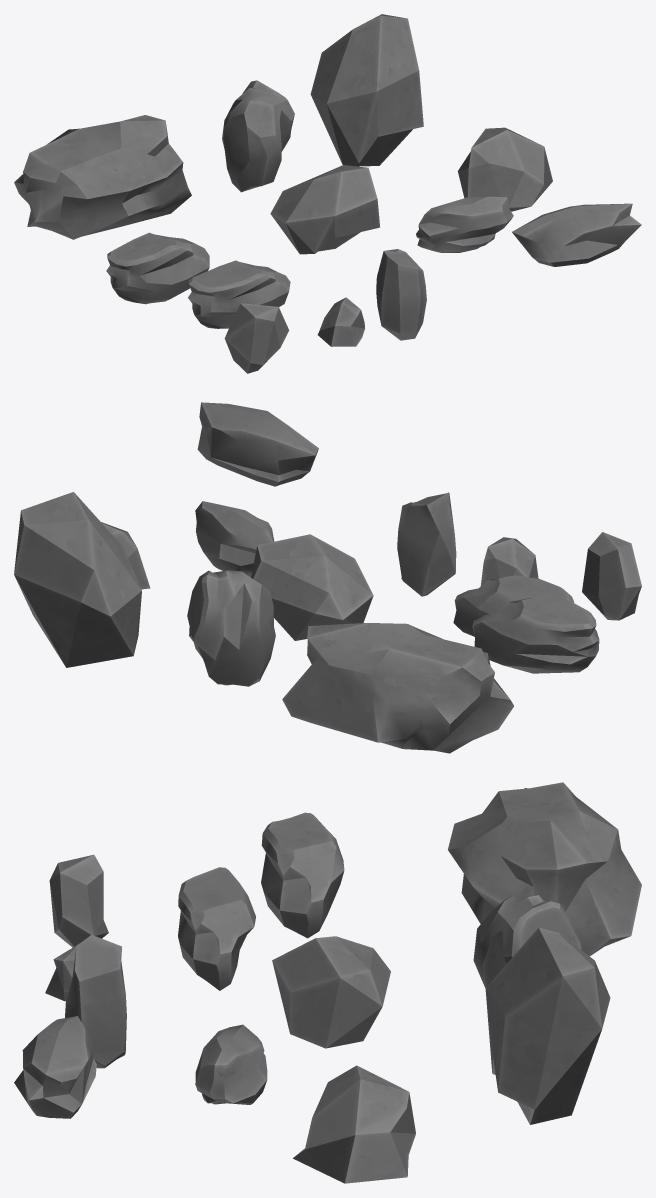
File: RockSet1NoAO.fbx
3 renders of one model, top to bottom at view 1: azimuth 30°, elevation 25°; view 2: azimuth 150°, elevation 25°; view 3: azimuth 270°, elevation 25°, orthographic. The views are drawn at different scales.
Visible parts, largest first — view 1: Cube.014, Cube.015, Cube.021, Cube.022, Cube.017, Cube.023, Cube.024, Cube.026, Cube.019, Cube.020, Cube.013, Cube.018; view 2: Cube.014, Cube.015, Cube.021, Cube.022, Cube.024, Cube.017, Cube.020, Cube.019, Cube.013, Cube.026, Cube.018, Cube.023; view 3: Cube.014, Cube.015, Cube.023, Cube.021, Cube.024, Cube.026, Cube.017, Cube.020, Cube.022, Cube.019, Cube.013, Cube.018.
Part boxes in pixels (x1=…): Cube.014: x1=14, y1=115, x2=191, y2=239; Cube.015: x1=310, y1=14, x2=423, y2=166; Cube.021: x1=270, y1=165, x2=380, y2=254; Cube.022: x1=222, y1=80, x2=294, y2=192; Cube.017: x1=512, y1=203, x2=641, y2=266; Cube.023: x1=457, y1=127, x2=552, y2=211; Cube.024: x1=106, y1=232, x2=209, y2=304; Cube.026: x1=188, y1=260, x2=290, y2=328; Cube.019: x1=416, y1=196, x2=513, y2=252; Cube.020: x1=376, y1=249, x2=426, y2=340; Cube.013: x1=224, y1=303, x2=289, y2=373; Cube.018: x1=317, y1=297, x2=364, y2=346; Cube.014: x1=282, y1=623, x2=513, y2=753; Cube.015: x1=14, y1=492, x2=141, y2=667; Cube.021: x1=251, y1=534, x2=373, y2=640; Cube.022: x1=187, y1=570, x2=275, y2=686; Cube.024: x1=472, y1=596, x2=599, y2=673; Cube.017: x1=197, y1=402, x2=318, y2=486; Cube.020: x1=397, y1=492, x2=456, y2=596; Cube.019: x1=195, y1=501, x2=274, y2=577; Cube.013: x1=582, y1=532, x2=641, y2=620; Cube.026: x1=453, y1=575, x2=574, y2=636; Cube.018: x1=480, y1=537, x2=538, y2=585; Cube.023: x1=101, y1=522, x2=150, y2=589; Cube.014: x1=448, y1=782, x2=641, y2=956; Cube.015: x1=485, y1=927, x2=610, y2=1124; Cube.023: x1=293, y1=1065, x2=415, y2=1183; Cube.021: x1=272, y1=936, x2=390, y2=1048; Cube.024: x1=261, y1=812, x2=344, y2=938; Cube.026: x1=178, y1=867, x2=255, y2=990; Cube.017: x1=14, y1=1016, x2=96, y2=1118; Cube.020: x1=65, y1=935, x2=126, y2=1068; Cube.022: x1=473, y1=895, x2=582, y2=988; Cube.019: x1=195, y1=1024, x2=267, y2=1104; Cube.013: x1=49, y1=854, x2=108, y2=947; Cube.018: x1=45, y1=944, x2=78, y2=1001.
Bounding box in the file's own units: 5131 × 1824 × 4417.
1 material, 1 textured.
